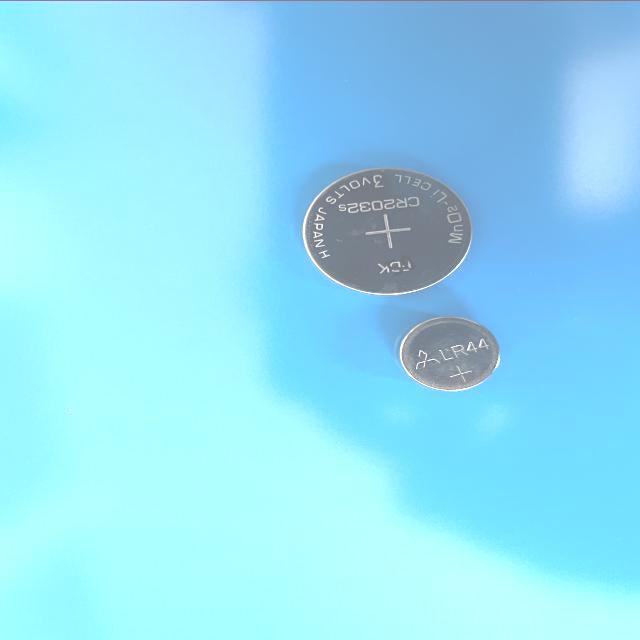COIN: (296, 166, 476, 297), (397, 314, 502, 392)
